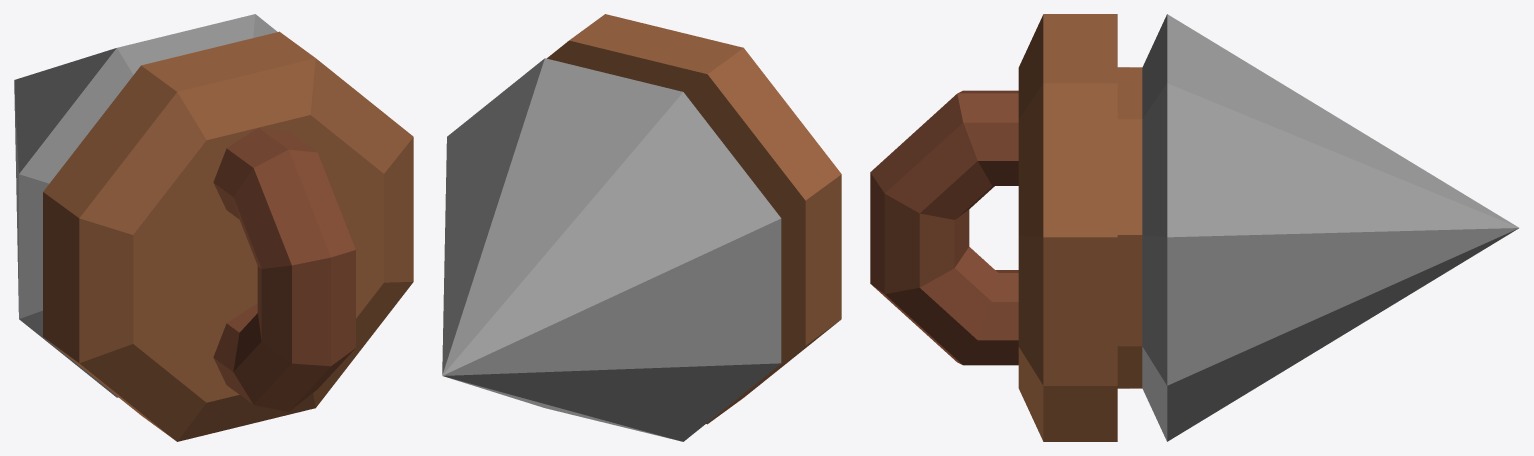
File: drill_model.gltf
3 renders of one model, left to right at view 1: azimuth 30°, elevation 25°; view 2: azimuth 150°, elevation 25°; view 3: azimuth 270°, elevation 25°, orthographic. The views are drawn at different scales.
Visible parts, largest first — view 1: Base, Handle, Drill; view 2: Drill, Base; view 3: Drill, Base, Handle.
Boxes of the visible parts, <box> form: Base: <box>43,31,413,441</box>; Handle: <box>213,127,355,411</box>; Drill: <box>14,14,277,397</box>; Drill: <box>442,58,781,441</box>; Base: <box>547,14,841,424</box>; Drill: <box>1130,14,1518,441</box>; Base: <box>1018,14,1129,441</box>; Handle: <box>870,90,1018,365</box>.
Bounding box in the file's own units: 1 × 1 × 1.64.
1 material, 1 textured.
